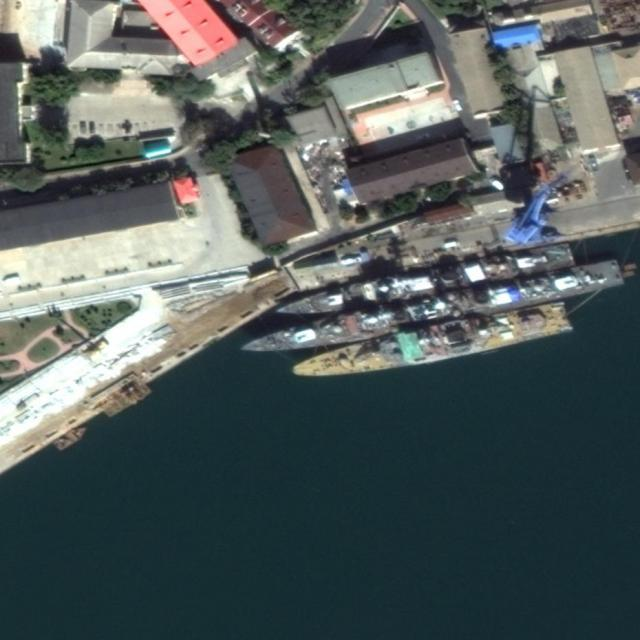Destroyer: (239, 257, 626, 362), (272, 242, 572, 323)
Other Warship: (289, 299, 573, 388)
